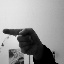g: (2, 26, 41, 57)
